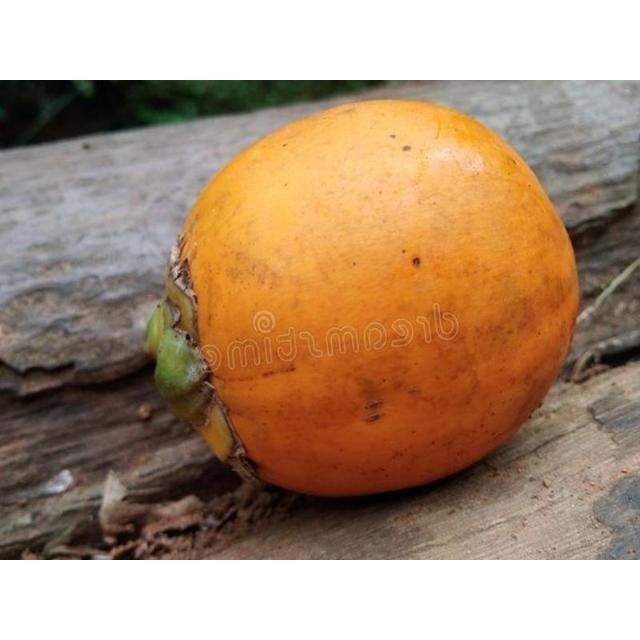good: (146, 100, 581, 501)
